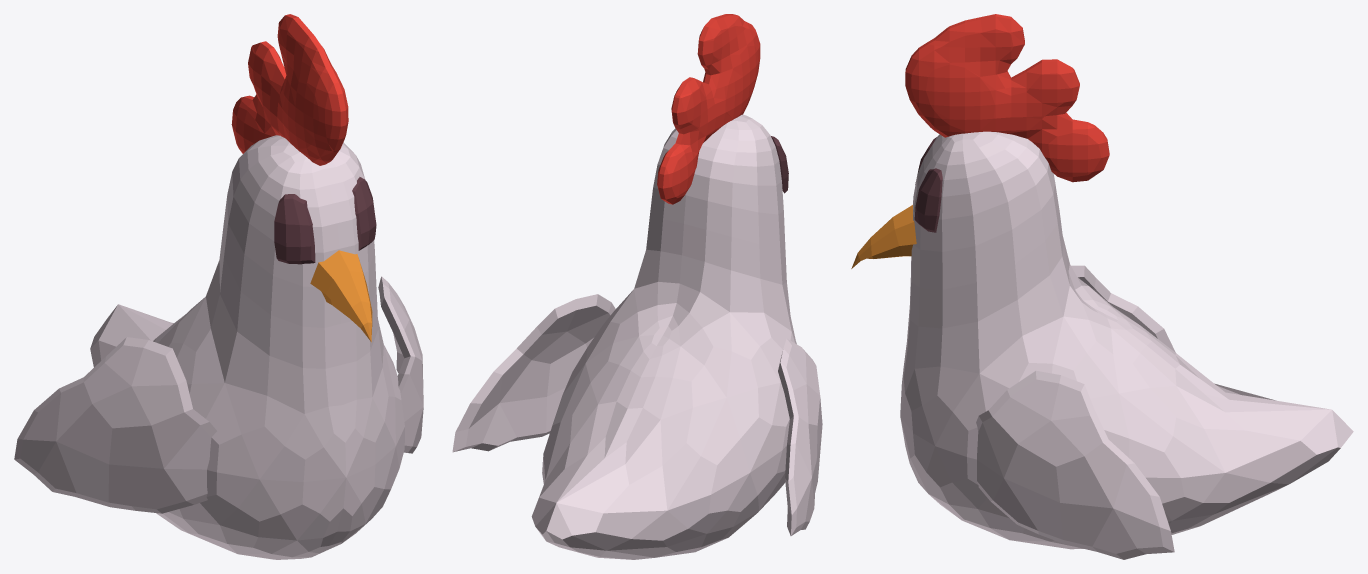
File: chicken.glb
3 views of the same model, side by side, from view 1: azimuth 30°, elevation 25°; view 2: azimuth 150°, elevation 25°; view 3: azimuth 270°, elevation 25° (orthographic). The views are drawn at different scales.
Parts seen in each view (by area): view 1: body.hp, body.hp.001, kam, body.hp.002, Plane, Cone; view 2: body.hp, body.hp.002, kam, body.hp.001; view 3: body.hp, body.hp.002, kam, Cone, body.hp.001, Plane.
Part boxes in pixels (x1,y1,x2,y2): body.hp: (90,135,404,559); body.hp.001: (14,337,216,513); kam: (231,14,348,165); body.hp.002: (378,276,423,453); Plane: (274,177,376,264); Cone: (310,250,372,342); body.hp: (531,114,796,559); body.hp.002: (452,294,615,452); kam: (657,14,760,204); body.hp.001: (778,339,822,535); body.hp: (900,131,1353,549); body.hp.002: (976,370,1174,559); kam: (905,14,1109,182); Cone: (851,205,916,268); body.hp.001: (1071,265,1175,352); Plane: (914,137,942,232).
Bounding box in the file's own units: 9.69 × 13.25 × 11.56.
